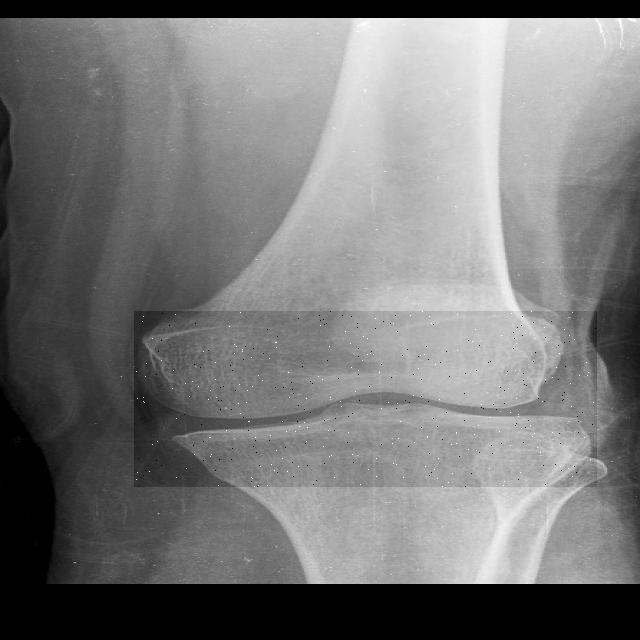normal: (134, 311, 597, 487)
